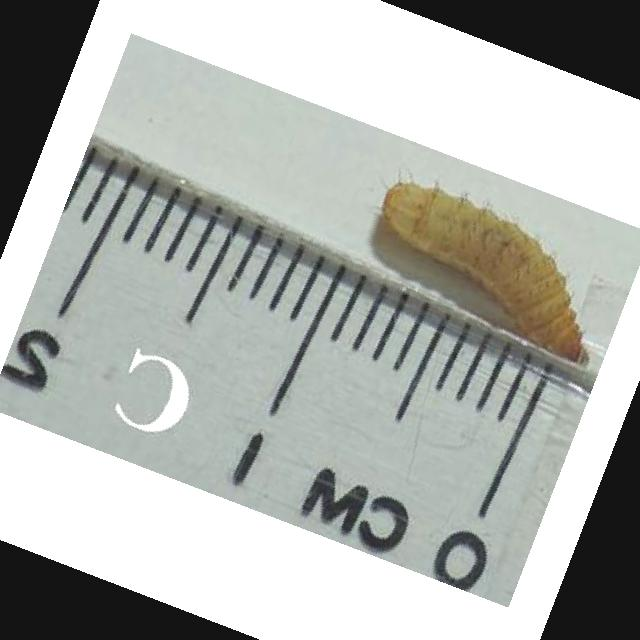Maggot: (378, 175, 590, 371)
